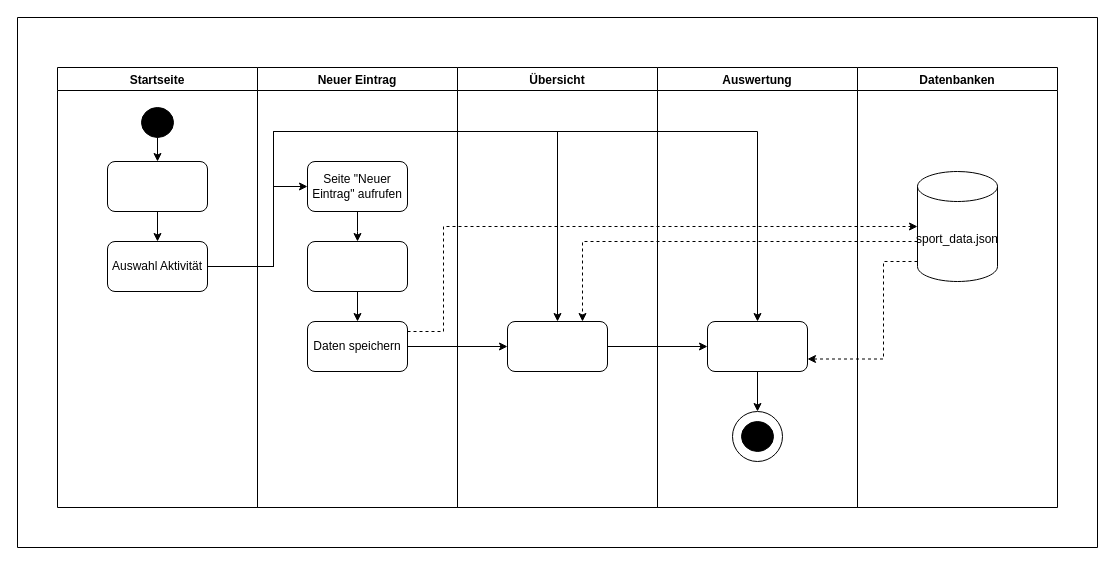
This 1115x565 diagram has some shape labels left out. The shapes that lost their labels are listed below. From the top down, each one's box as (x1, y1, x2, y2) in pixels, then its label:
(106, 160, 208, 212): Sports Tracker aufrufen
(306, 240, 408, 292): Sportdaten erfassen
(506, 320, 608, 372): Seite "Übersicht" aufrufen
(706, 320, 808, 372): Seite "Auswertung" aufrufen
